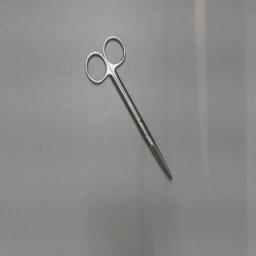Curved Mayo Scissors: (82, 32, 174, 182)
